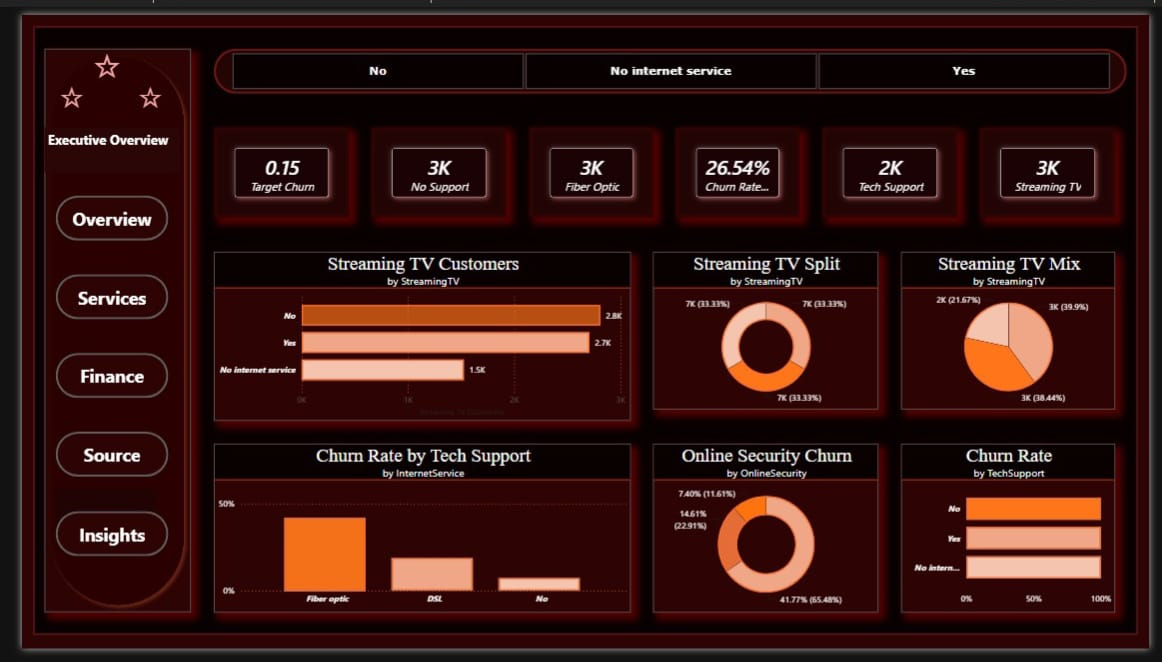

This screenshot's page, from the dashboard's own definition file:
{"tool":"powerbi","page":{"name":"Services & Support ","canvas":[1600,900],"ordinal":1},"visuals":[{"type":"shape","box":[16,16,1568,864],"z":0},{"type":"hundredPercentStackedBarChart","fields":{"Category":["TelcoChurnData.TechSupport"],"Y":["TelcoChurnData.Churn Rate %"]},"box":[1248,608,304,240],"z":1000},{"type":"clusteredColumnChart","fields":{"Category":["DimContract.InternetService"],"Y":["TelcoChurnData.Churn Rate %"]},"box":[272,608,592,240],"z":2000},{"type":"donutChart","fields":{"Category":["TelcoChurnData.StreamingTV"],"Y":["Sum(vw_DashboardKPIs.TotalCustomers)"]},"box":[896,336,320,224],"z":3000},{"type":"pieChart","fields":{"Y":["TelcoChurnData.Total Customers"],"Category":["TelcoChurnData.StreamingTV"]},"box":[1248,336,304,224],"z":4000},{"type":"cardVisual","fields":{"Data":["TelcoChurnData.Churn Rate %"]},"box":[928,160,176,128],"z":5000},{"type":"shape","box":[32,48,208,800],"z":6000},{"type":"textbox","box":[48,80,48,80],"z":7000},{"type":"textbox","box":[96,32,80,96],"z":8000},{"type":"textbox","box":[160,80,64,80],"z":9000},{"type":"shape","box":[48,672,144,48],"z":10000},{"type":"actionButton","box":[48,592,160,64],"z":11000},{"type":"actionButton","box":[48,256,160,64],"z":12000},{"type":"actionButton","box":[48,368,160,64],"z":13000},{"type":"actionButton","box":[48,480,160,64],"z":14000},{"type":"actionButton","box":[48,704,160,64],"z":15000},{"type":"cardVisual","fields":{"Data":["DimContract.No Tech Support Customers"]},"box":[496,160,192,128],"z":16000},{"type":"cardVisual","fields":{"Data":["DimContract.Fiber Optic Customers"]},"box":[720,160,176,128],"z":17000},{"type":"cardVisual","fields":{"Data":["DimContract.Streaming TV Customers"]},"box":[1360,160,192,128],"z":18000},{"type":"cardVisual","fields":{"Data":["DimContract.Tech Support Customers"]},"box":[1136,160,192,128],"z":19000},{"type":"cardVisual","fields":{"Data":["TelcoChurnData.Target Churn"]},"box":[272,160,192,128],"z":20000},{"type":"shape","box":[272,48,1296,64],"z":21000},{"type":"slicer","fields":{"Values":["TelcoChurnData.TechSupport"]},"box":[272,48,1296,64],"z":22000},{"type":"barChart","fields":{"Category":["TelcoChurnData.StreamingTV"],"Y":["TelcoChurnData.Total Customers"]},"box":[272,336,592,240],"z":23000},{"type":"donutChart","fields":{"Category":["TelcoChurnData.OnlineSecurity"],"Y":["TelcoChurnData.Churn Rate %"]},"box":[896,608,320,240],"z":24000},{"type":"textbox","box":[32,160,192,64],"z":25000}]}

Visuals, with their boxes in screenshot pixels (x1, y1, x2, y2), scaled from the page's 1600x900 canvas onto the 1162x662 screenshot:
shape: x1=12 y1=12 x2=1150 y2=647
hundredPercentStackedBarChart - TelcoChurnData.TechSupport x TelcoChurnData.Churn Rate %: x1=906 y1=447 x2=1127 y2=624
clusteredColumnChart - DimContract.InternetService x TelcoChurnData.Churn Rate %: x1=198 y1=447 x2=627 y2=624
donutChart - TelcoChurnData.StreamingTV x Sum(vw_DashboardKPIs.TotalCustomers): x1=651 y1=247 x2=883 y2=412
pieChart - TelcoChurnData.Total Customers x TelcoChurnData.StreamingTV: x1=906 y1=247 x2=1127 y2=412
cardVisual - TelcoChurnData.Churn Rate %: x1=674 y1=118 x2=802 y2=212
shape: x1=23 y1=35 x2=174 y2=624
textbox: x1=35 y1=59 x2=70 y2=118
textbox: x1=70 y1=24 x2=128 y2=94
textbox: x1=116 y1=59 x2=163 y2=118
shape: x1=35 y1=494 x2=139 y2=530
actionButton: x1=35 y1=435 x2=151 y2=483
actionButton: x1=35 y1=188 x2=151 y2=235
actionButton: x1=35 y1=271 x2=151 y2=318
actionButton: x1=35 y1=353 x2=151 y2=400
actionButton: x1=35 y1=518 x2=151 y2=565
cardVisual - DimContract.No Tech Support Customers: x1=360 y1=118 x2=500 y2=212
cardVisual - DimContract.Fiber Optic Customers: x1=523 y1=118 x2=651 y2=212
cardVisual - DimContract.Streaming TV Customers: x1=988 y1=118 x2=1127 y2=212
cardVisual - DimContract.Tech Support Customers: x1=825 y1=118 x2=964 y2=212
cardVisual - TelcoChurnData.Target Churn: x1=198 y1=118 x2=337 y2=212
shape: x1=198 y1=35 x2=1139 y2=82
slicer - TelcoChurnData.TechSupport: x1=198 y1=35 x2=1139 y2=82
barChart - TelcoChurnData.StreamingTV x TelcoChurnData.Total Customers: x1=198 y1=247 x2=627 y2=424
donutChart - TelcoChurnData.OnlineSecurity x TelcoChurnData.Churn Rate %: x1=651 y1=447 x2=883 y2=624
textbox: x1=23 y1=118 x2=163 y2=165
